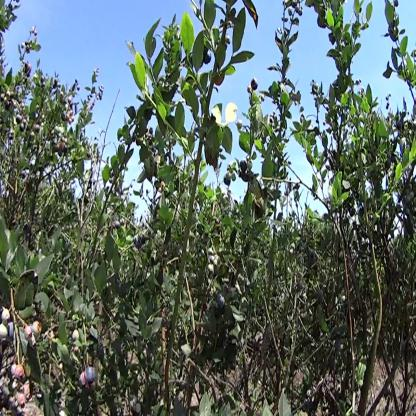intermediate: (10, 362, 33, 416), (23, 324, 38, 350), (18, 367, 24, 377)
mature: (84, 363, 97, 388), (216, 292, 228, 314), (88, 370, 94, 381), (252, 81, 257, 89), (221, 300, 224, 305)
young: (1, 306, 13, 349), (71, 328, 83, 348), (3, 312, 9, 324), (34, 323, 39, 336), (2, 327, 7, 335), (238, 123, 243, 129)
